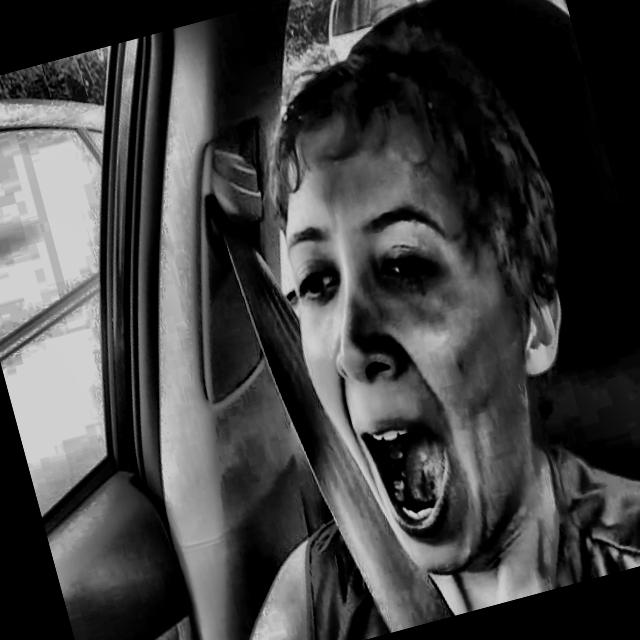open_eyes: (281, 248, 349, 319)
open_mouth: (342, 408, 472, 547)
